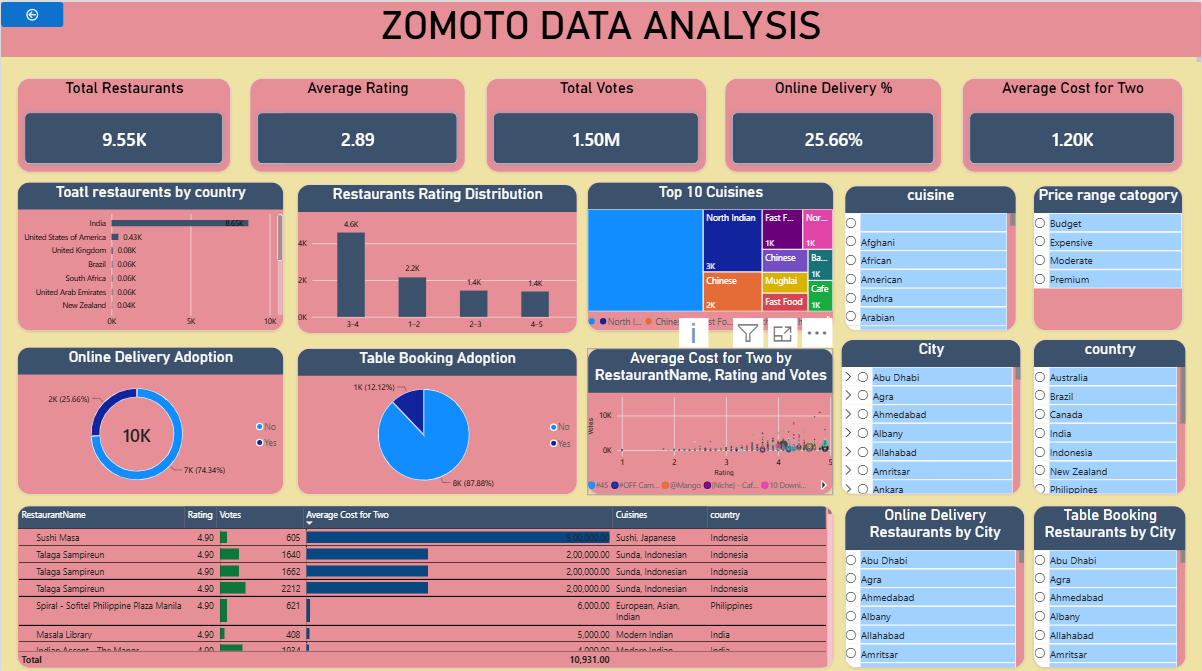

This screenshot's page, from the dashboard's own definition file:
{"tool":"powerbi","page":{"name":"Dashboard1","canvas":[1920,1080],"ordinal":0},"visuals":[{"type":"textbox","title":"ZOMOTO DATA ANALYSIS","box":[0,0,1920.7,95.9],"z":0},{"type":"cardVisual","title":"Total Restaurants","fields":{"Data":["measures (2).Toatl restaurents"]},"box":[25,122.2,341.7,150],"z":1000},{"type":"cardVisual","title":"Average Rating","fields":{"Data":["measures (2).Avg rating"]},"box":[397.2,122.2,344.4,150],"z":2000},{"type":"cardVisual","title":"Total Votes","fields":{"Data":["measures (2).Total votes"]},"box":[775,122.2,352.8,150],"z":3000},{"type":"cardVisual","title":"Online Delivery %","fields":{"Data":["measures (2).Online Delivery %"]},"box":[1158.3,122.2,347.2,150],"z":4000},{"type":"cardVisual","title":"Average Cost for Two","fields":{"Data":["measures (2).Average Cost for Two"]},"box":[1538.9,122.2,352.8,150],"z":5000},{"type":"barChart","fields":{"Category":["dcountry.country"],"Y":["measures (2).Toatl restaurents"]},"box":[26,288,426,238],"z":6000},{"type":"columnChart","title":" Restaurants  Rating Distribution","fields":{"Category":["frestaurant.Rating Band"],"Y":["measures (2).Toatl restaurents"]},"box":[474,292,448,238],"z":7000},{"type":"treemap","title":"Top 10 Cuisines ","fields":{"Group":["fcuisines.Value"],"Values":["measures (2).Cuisine Restaurants"]},"box":[938,288,394,238],"z":8000},{"type":"donutChart","title":"Online Delivery Adoption","fields":{"Category":["frestaurant.Has_Online_delivery"],"Y":["measures (2).Toatl restaurents"]},"box":[26,552,426,236],"z":9000},{"type":"pieChart","title":"Table Booking Adoption","fields":{"Category":["frestaurant.Has_Table_booking"],"Y":["measures (2).Toatl restaurents"]},"box":[474,554,448,234],"z":10000},{"type":"scatterChart","fields":{"Series":["frestaurant.RestaurantName"],"Size":["measures (2).Average Cost for Two"],"X":["frestaurant.Rating"],"Y":["frestaurant.Votes"]},"box":[938,554,394,234],"z":11000},{"type":"listSlicer","fields":{"Values":["frestaurant.Price range catogory"]},"box":[1652,294,238,232],"z":12000},{"type":"listSlicer","fields":{"Values":["dcountry.country"]},"box":[1652,540,244,248],"z":13000},{"type":"listSlicer","fields":{"Values":["frestaurant.City","dcountry.country"]},"box":[1344,540,288,248],"z":14000},{"type":"listSlicer","fields":{"Values":["fcuisines.cuisine"]},"box":[1350,294,274,232],"z":15000},{"type":"actionButton","box":[0,0,100,40],"z":16000},{"type":"listSlicer","fields":{"Values":["frestaurant.City"]},"box":[1350,806,288,260],"z":17000},{"type":"listSlicer","fields":{"Values":["frestaurant.City"]},"box":[1652,806,244,260],"z":18000},{"type":"tableEx","fields":{"Values":["frestaurant.RestaurantName","frestaurant.Rating","frestaurant.Votes","measures (2).Average Cost for Two","frestaurant.Cuisines","dcountry.country"]},"box":[26,806,1306,260],"z":19000}]}

Visuals, with their boxes on the page's 1920x1080 design canvas (x1, y1, x2, y2). These are canvas units, not pixel positions in the 1202x671 screenshot, which may show the page scaled, cropped or inside an application window:
"ZOMOTO DATA ANALYSIS" textbox: box(0, 0, 1921, 96)
"Total Restaurants" cardVisual: box(25, 122, 367, 272)
"Average Rating" cardVisual: box(397, 122, 742, 272)
"Total Votes" cardVisual: box(775, 122, 1128, 272)
"Online Delivery %" cardVisual: box(1158, 122, 1506, 272)
"Average Cost for Two" cardVisual: box(1539, 122, 1892, 272)
barChart - dcountry.country x measures (2).Toatl restaurents: box(26, 288, 452, 526)
" Restaurants  Rating Distribution" columnChart: box(474, 292, 922, 530)
"Top 10 Cuisines " treemap: box(938, 288, 1332, 526)
"Online Delivery Adoption" donutChart: box(26, 552, 452, 788)
"Table Booking Adoption" pieChart: box(474, 554, 922, 788)
scatterChart - frestaurant.RestaurantName x measures (2).Average Cost for Two: box(938, 554, 1332, 788)
listSlicer - frestaurant.Price range catogory: box(1652, 294, 1890, 526)
listSlicer - dcountry.country: box(1652, 540, 1896, 788)
listSlicer - frestaurant.City x dcountry.country: box(1344, 540, 1632, 788)
listSlicer - fcuisines.cuisine: box(1350, 294, 1624, 526)
actionButton: box(0, 0, 100, 40)
listSlicer - frestaurant.City: box(1350, 806, 1638, 1066)
listSlicer - frestaurant.City: box(1652, 806, 1896, 1066)
tableEx - frestaurant.RestaurantName x frestaurant.Rating: box(26, 806, 1332, 1066)
